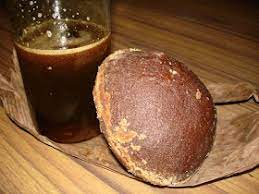hakuru: (90, 45, 219, 186)
